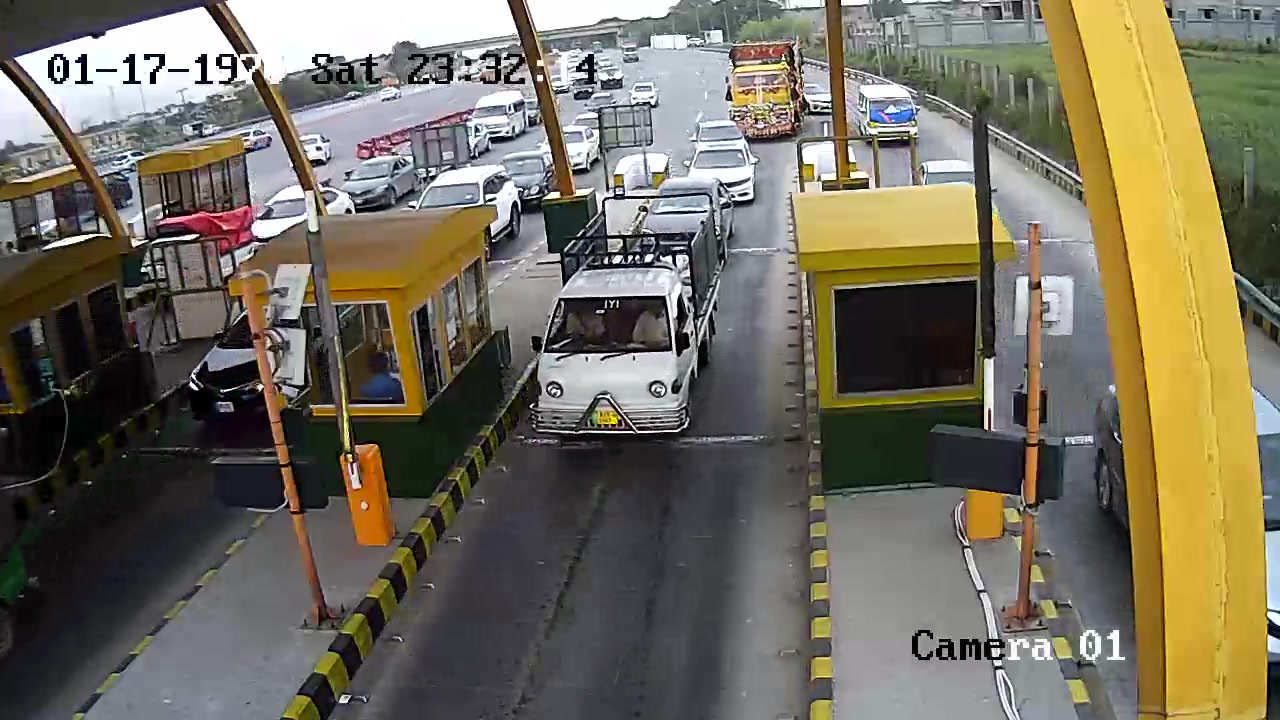F2: (531, 186, 727, 454)
